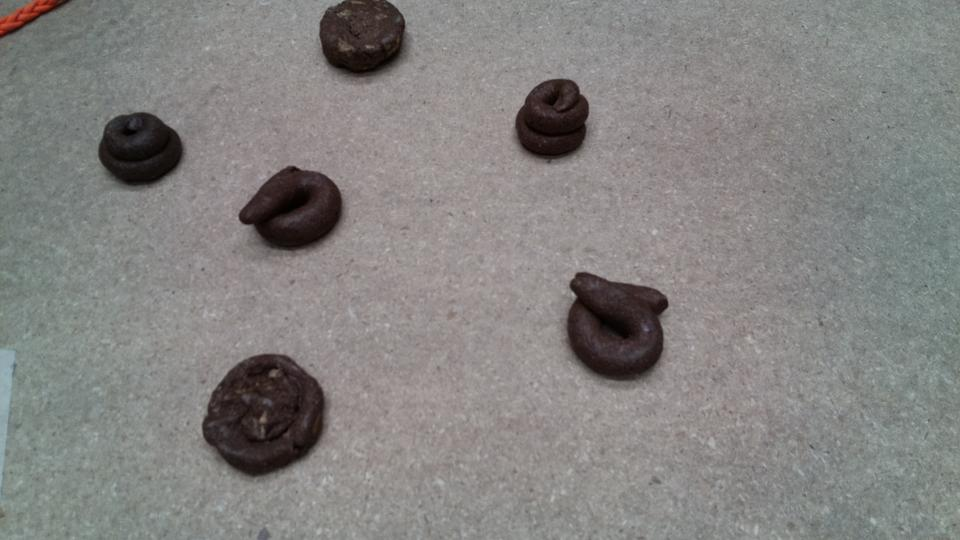poop: (198, 348, 338, 479), (557, 260, 680, 385), (235, 161, 351, 259), (317, 1, 419, 75), (98, 104, 185, 190), (511, 75, 591, 162)
